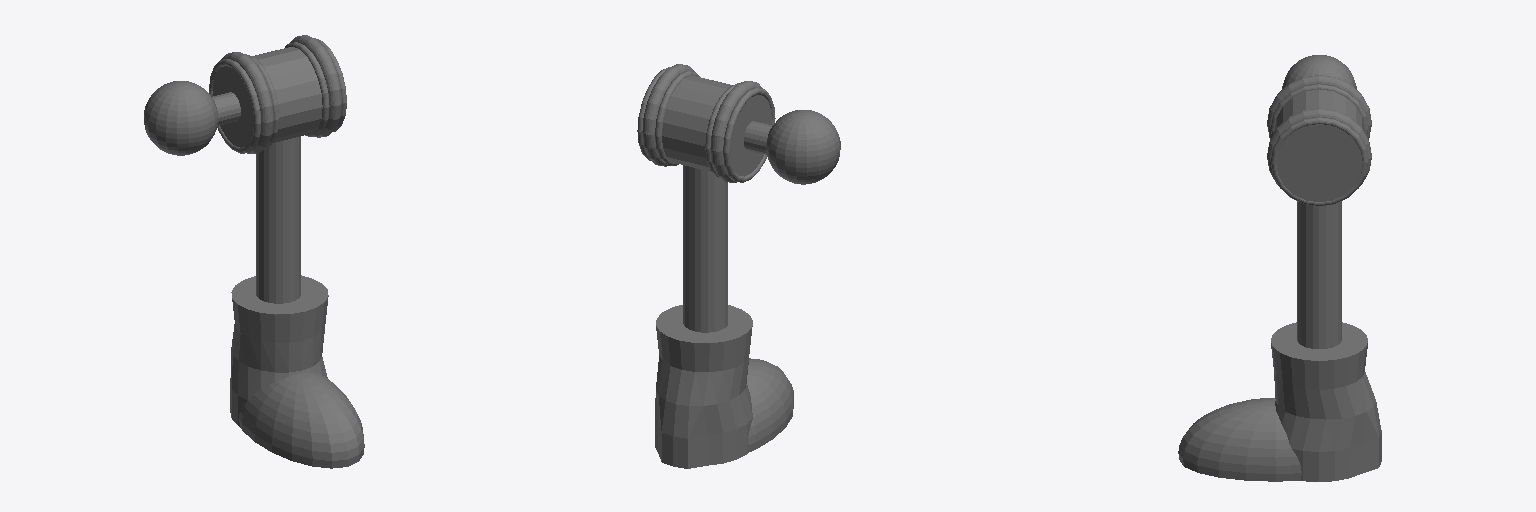
The model's file is CylinderBotLeftLeg_MERGED.obj.
The picture shows the model from 3 angles: view 1: azimuth 30°, elevation 25°; view 2: azimuth 150°, elevation 25°; view 3: azimuth 270°, elevation 25°; orthographic projection.
Visible parts, largest first — view 1: CylinderBotLeftLeg:polySurface21 CylinderBotLeftLeg:polySurface2; view 2: CylinderBotLeftLeg:polySurface21 CylinderBotLeftLeg:polySurface2; view 3: CylinderBotLeftLeg:polySurface21 CylinderBotLeftLeg:polySurface2.
Boxes of the visible parts, <box> form: CylinderBotLeftLeg:polySurface21 CylinderBotLeftLeg:polySurface2: <box>144,35,364,468</box>; CylinderBotLeftLeg:polySurface21 CylinderBotLeftLeg:polySurface2: <box>637,64,840,468</box>; CylinderBotLeftLeg:polySurface21 CylinderBotLeftLeg:polySurface2: <box>1178,55,1381,481</box>.
Size of the model in its own units: 5.4 by 10.82 by 5.41.